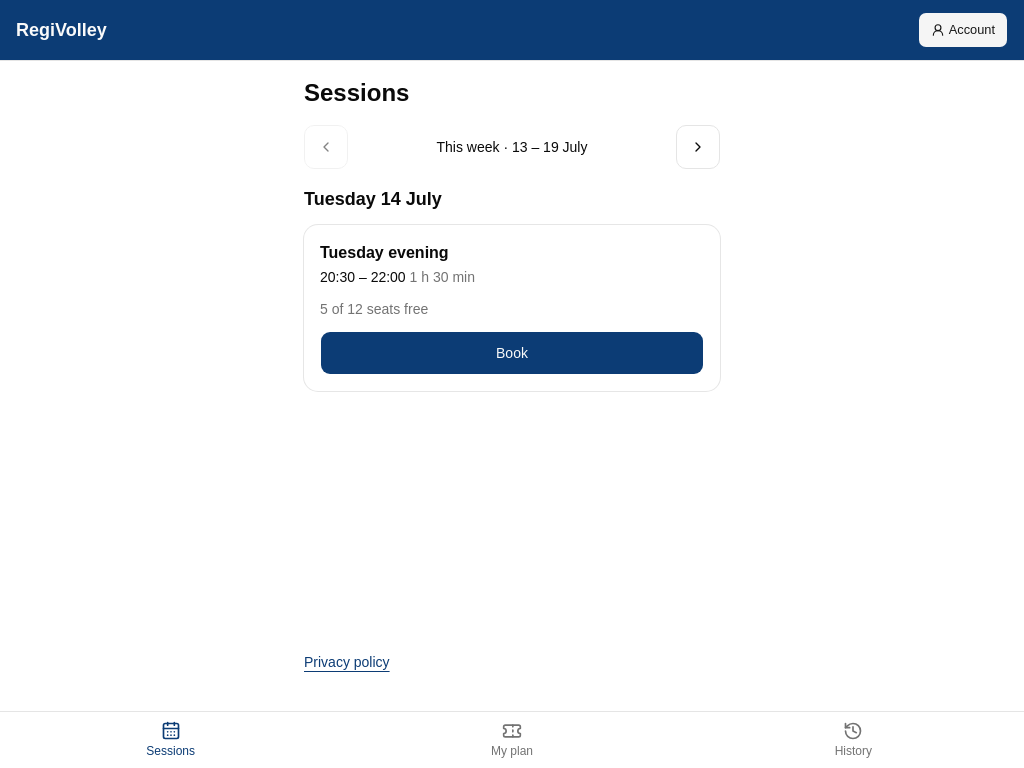
Test case: week navigation › shows a skeleton, not the previous week, while the next week loads
Check: the element "Tuesday evening" is shown, box x1=304 y1=225 x2=720 y2=391
Click the button named "Next week" at (698, 147), box x1=676 y1=125 x2=720 y2=169
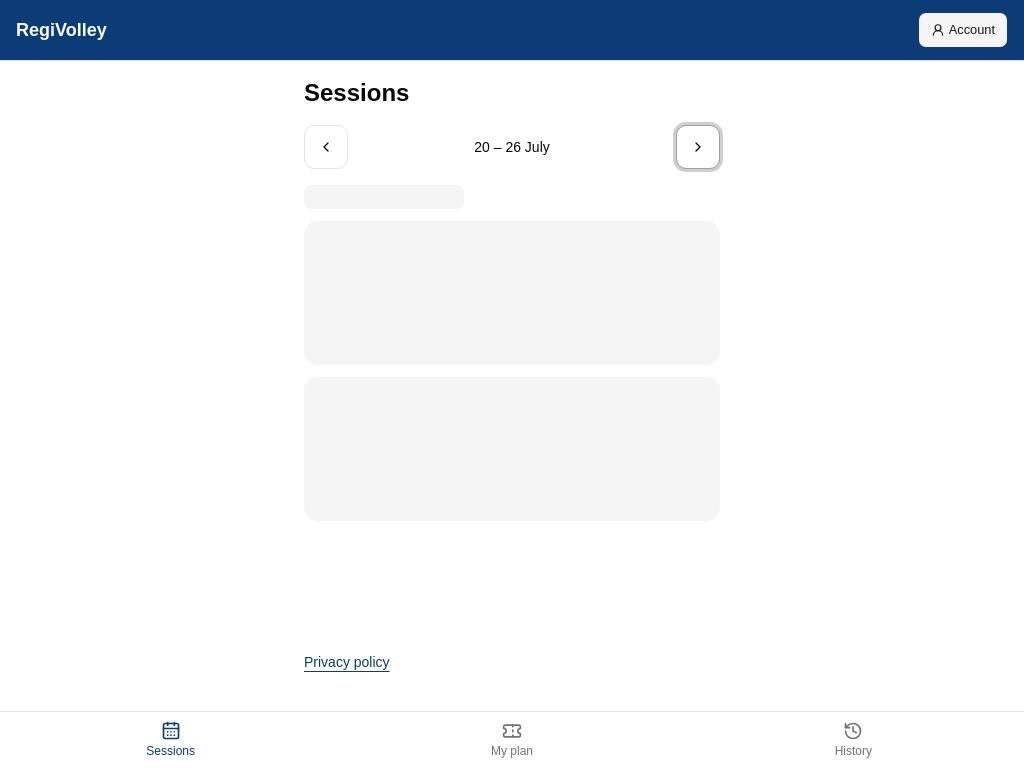
Check: the heading "Tuesday evening" is gone
